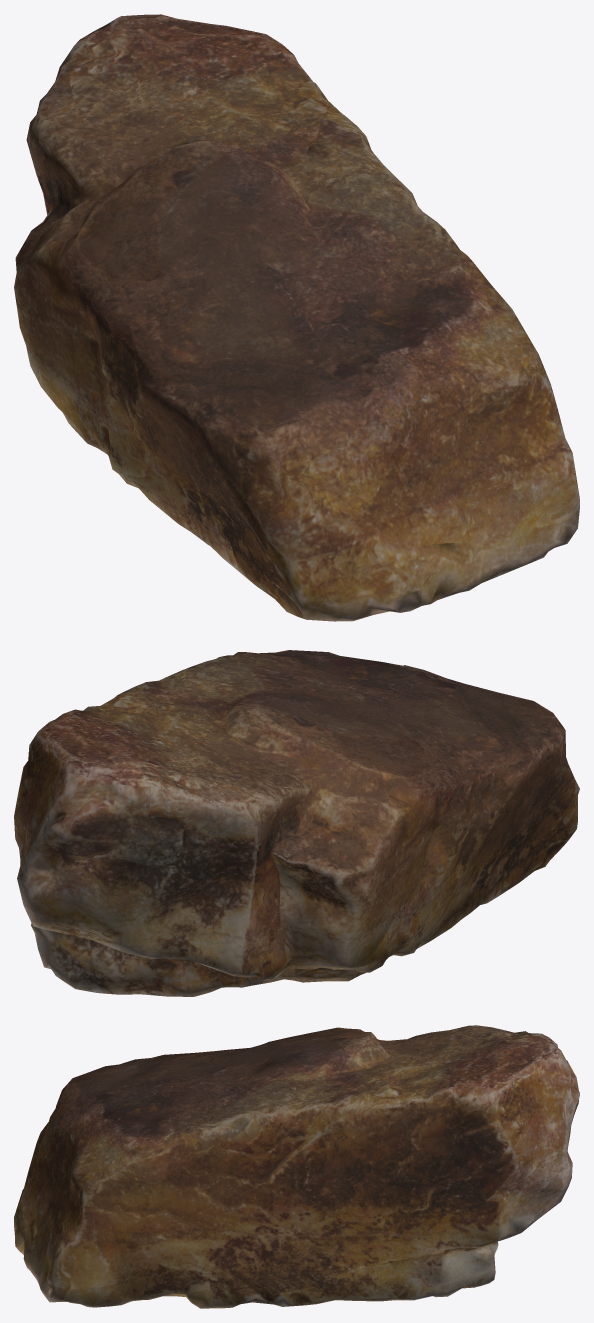
The model's file is Scan_Stone.fbx.
3 views of the same model, one above another, from view 1: azimuth 30°, elevation 25°; view 2: azimuth 150°, elevation 25°; view 3: azimuth 270°, elevation 25° (orthographic). The views are drawn at different scales.
Parts seen in each view (by area): view 1: Scan_Stone_LOD0; view 2: Scan_Stone_LOD0; view 3: Scan_Stone_LOD0.
Boxes of the visible parts, <box> form: Scan_Stone_LOD0: <box>14,14,579,621</box>; Scan_Stone_LOD0: <box>14,650,579,996</box>; Scan_Stone_LOD0: <box>14,1025,579,1308</box>.
Size of what is drawn, in the model's own units: 0.1685 by 0.1437 by 0.3201.
